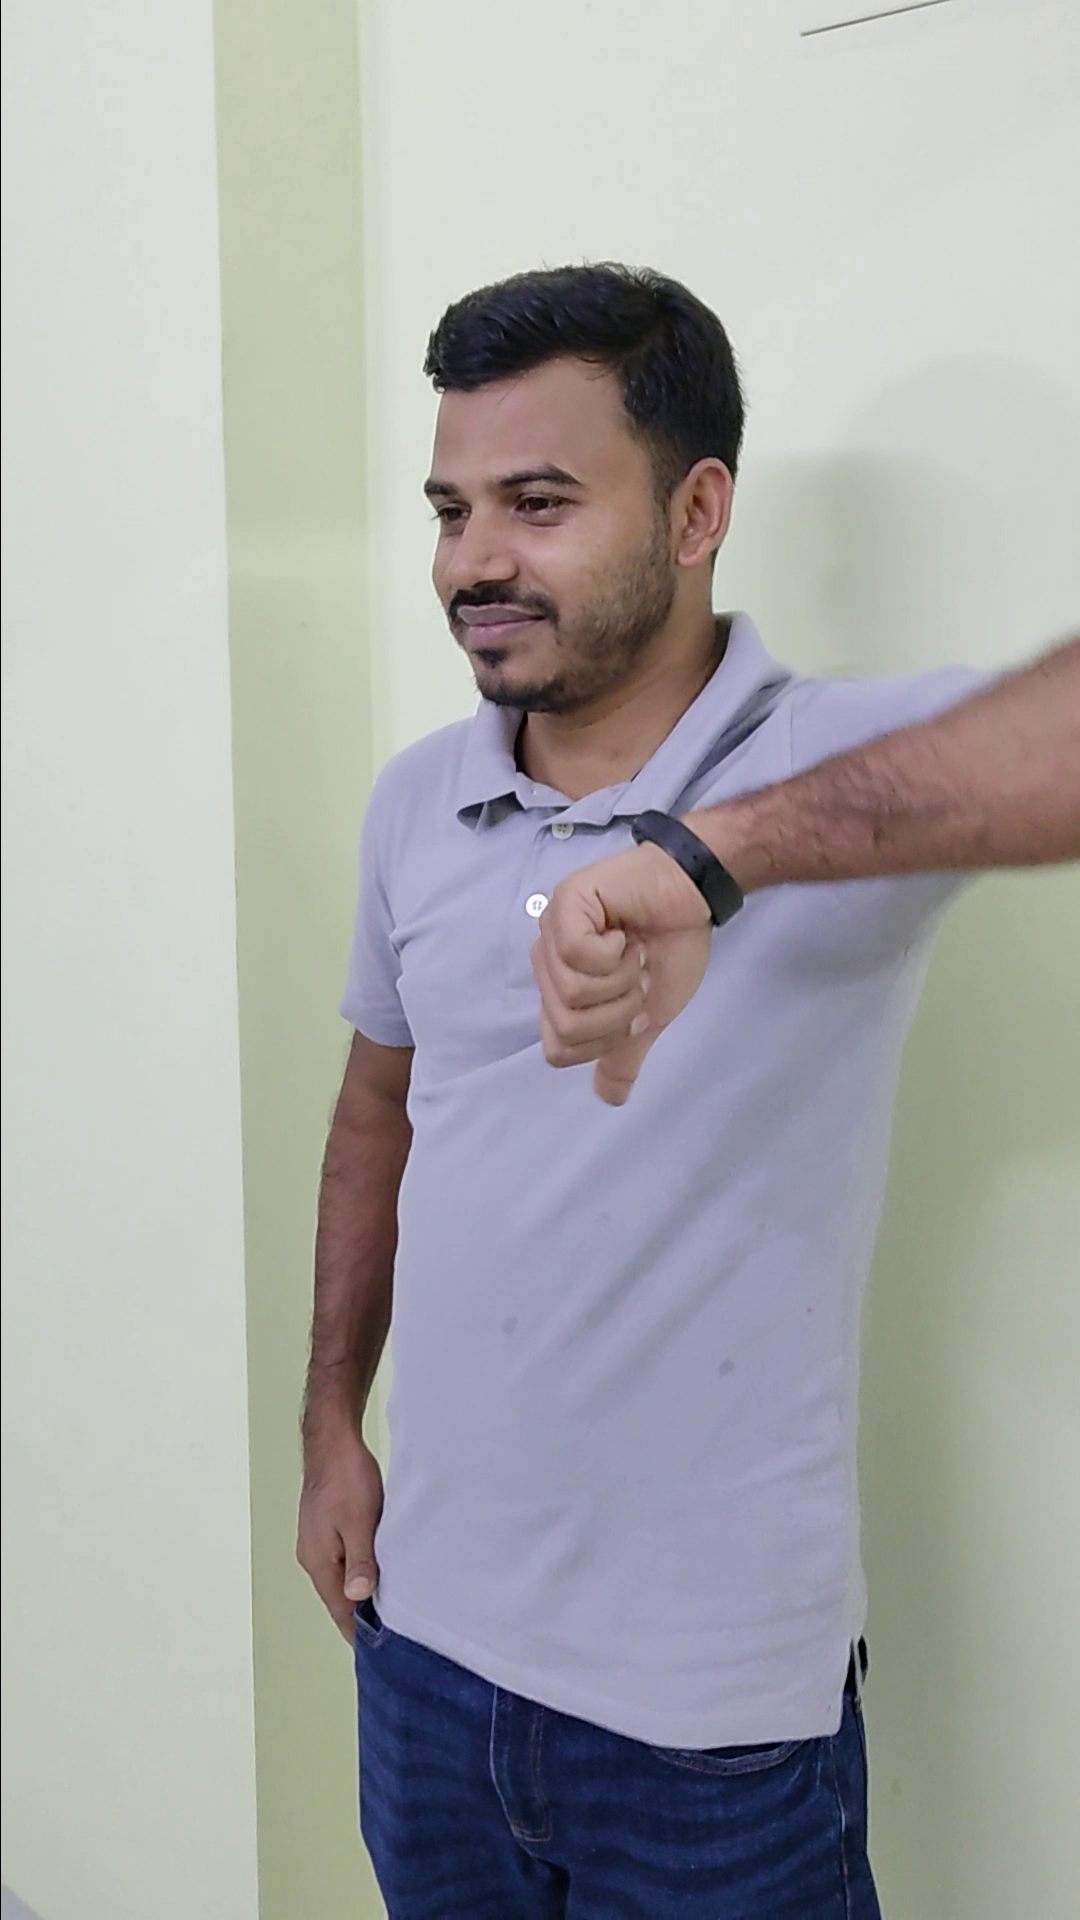Dislike: (510, 810, 760, 1121)
None: (262, 1378, 409, 1671)
